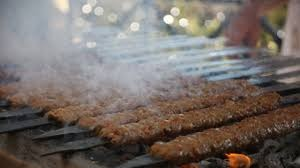kebap: (99, 92, 279, 143), (150, 104, 299, 160), (78, 90, 248, 128)
